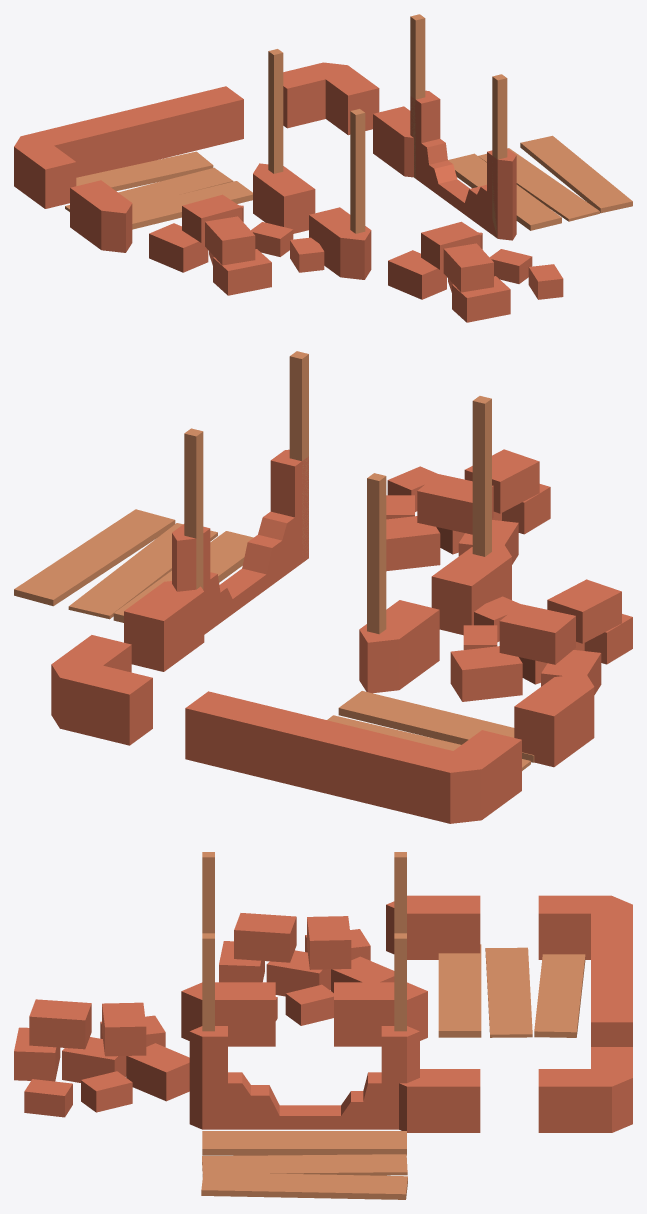
Rendered from Casa 5 Rota.obj.
3 views of the same model, one above another, from view 1: azimuth 30°, elevation 25°; view 2: azimuth 150°, elevation 25°; view 3: azimuth 270°, elevation 25° (orthographic). The views are drawn at different scales.
Size of the model in its own units: 2.98 by 1 by 3.02.
